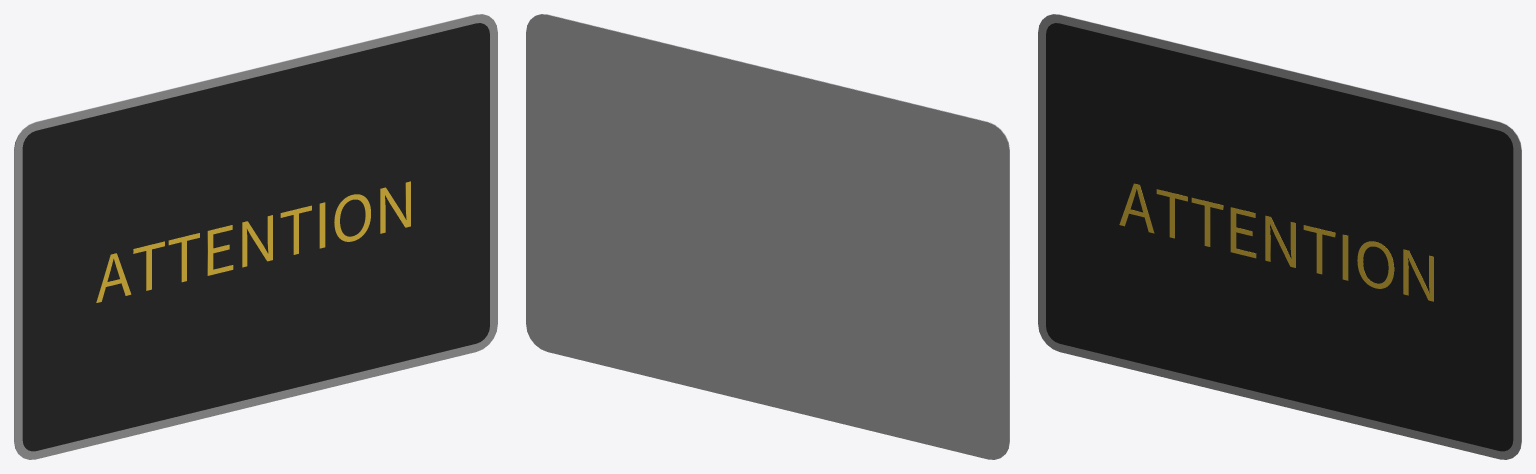
3 views of the same model, side by side, from view 1: azimuth 30°, elevation 25°; view 2: azimuth 150°, elevation 25°; view 3: azimuth 330°, elevation 25° (orthographic).
Parts seen in each view (by area): view 1: XA1_r01, XA1_r00, XA1_txt02, XA1_dos; view 2: XA1_dos, XA1_r00; view 3: XA1_r01, XA1_r00, XA1_txt02, XA1_dos.
Boxes of the visible parts, left/top/right/bottom form: XA1_r01: left=22, top=23, right=489, bottom=451; XA1_r00: left=14, top=14, right=497, bottom=459; XA1_txt02: left=96, top=181, right=410, bottom=302; XA1_dos: left=14, top=14, right=487, bottom=452; XA1_dos: left=526, top=14, right=1009, bottom=459; XA1_r00: left=542, top=14, right=1009, bottom=448; XA1_r01: left=1046, top=23, right=1513, bottom=451; XA1_r00: left=1038, top=14, right=1521, bottom=459; XA1_txt02: left=1119, top=183, right=1433, bottom=301; XA1_dos: left=1048, top=14, right=1521, bottom=452.
Size of the model in its own units: 0.9 by 0.6 by 0.0025.
